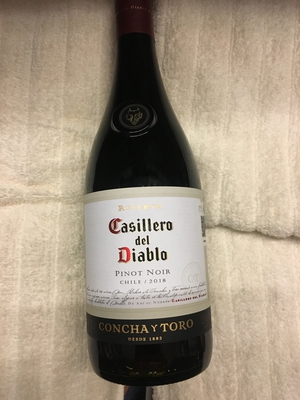casillero del diablo pinot noir: (76, 23, 210, 376)
